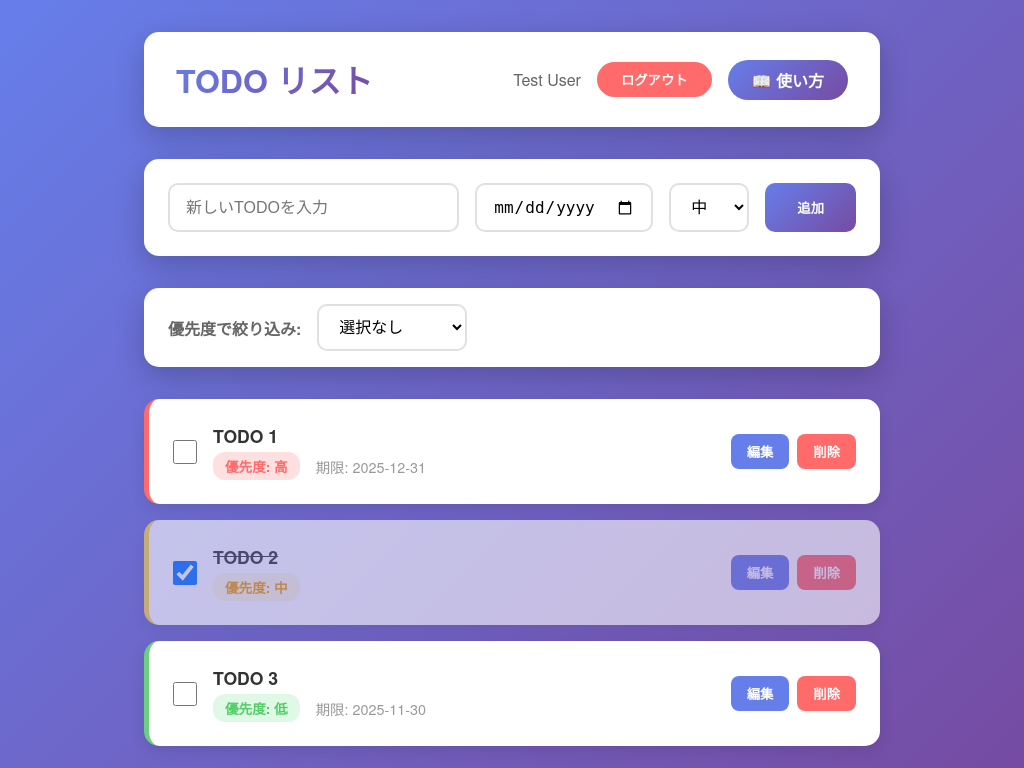
Todos › 優先度フィルターで「中」を選択すると優先度が中のTODOのみ表示される
Expected: the heading "TODO 1" is shown, [213,423,278,448]
Step 1. Select "中" in the dropdown labelled "優先度で絞り込み:" → (392, 328), box [317,304,467,351]
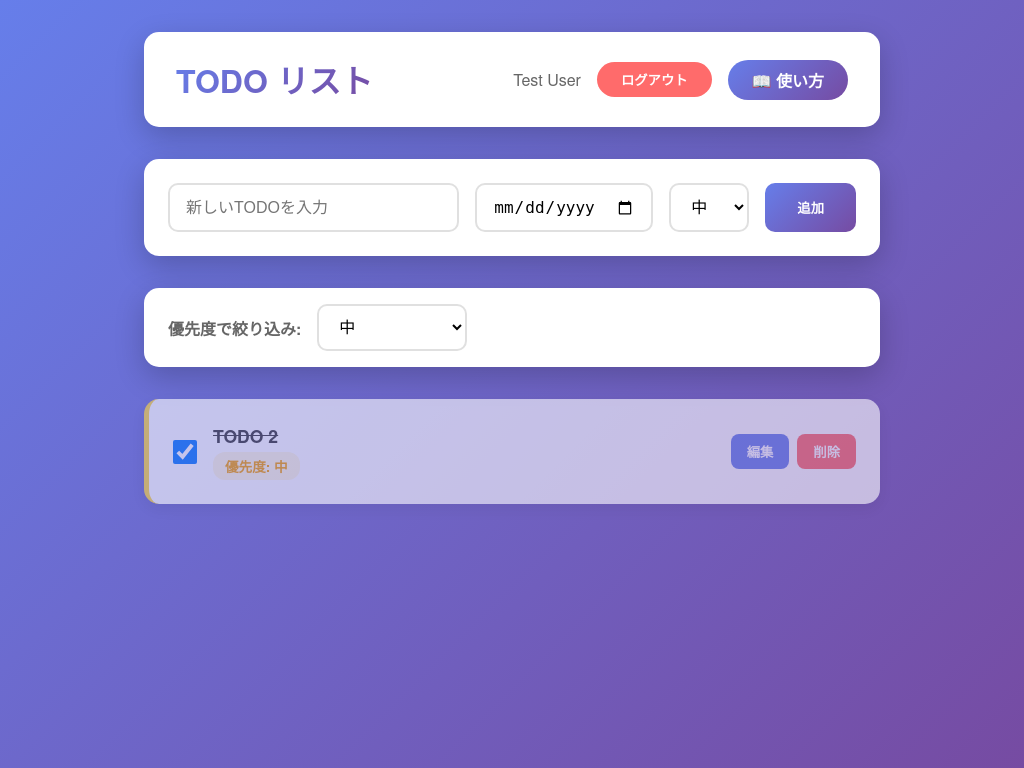
Expected: the heading "TODO 2" is shown, [213,423,278,448]
Expected: the heading "TODO 1" is gone
Expected: the heading "TODO 3" is gone
